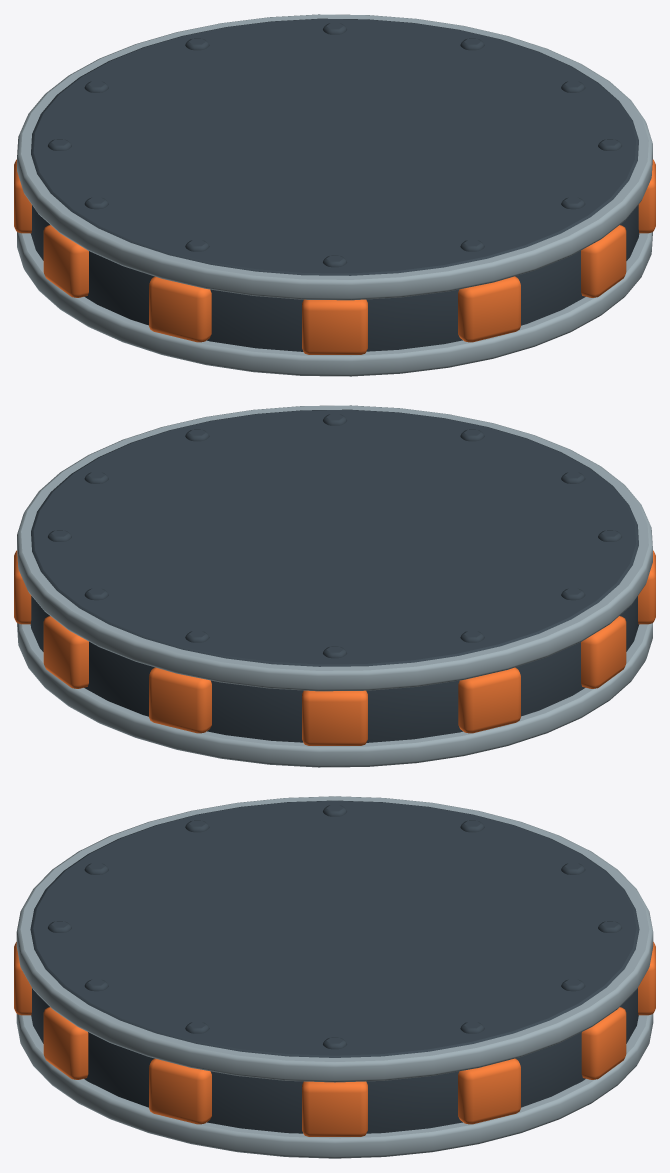
The model's file is decoupler.glb.
3 renders of one model, top to bottom at view 1: azimuth 30°, elevation 25°; view 2: azimuth 150°, elevation 25°; view 3: azimuth 270°, elevation 25°, orthographic.
Parts seen in each view (by area): view 1: Separation collar; view 2: Separation collar; view 3: Separation collar.
Part boxes in pixels (x1,y1,x2,y2): Separation collar: (14,14,655,376); Separation collar: (14,405,655,767); Separation collar: (14,796,655,1158).
Size of the model in its own units: 1.25 by 0.22 by 1.25.
